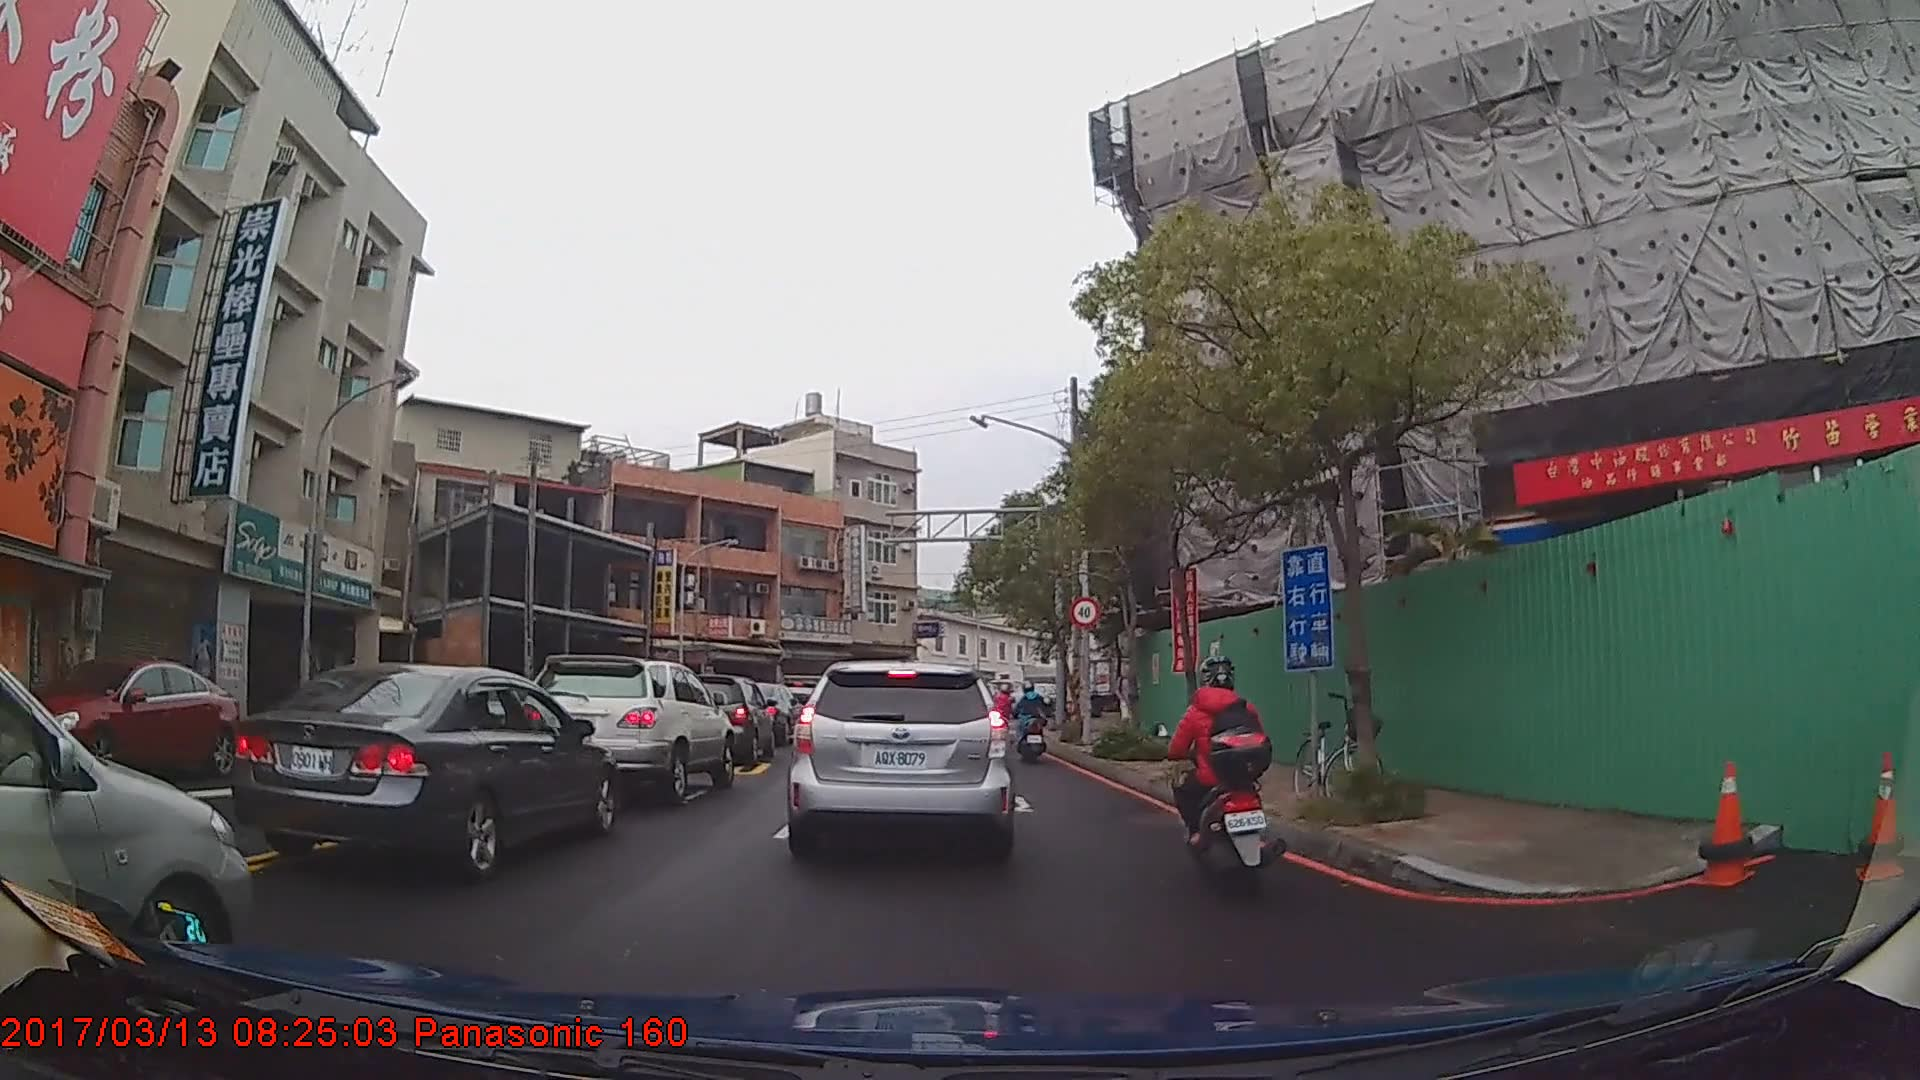pedestrian: (1112, 666, 1140, 741)
rider: (1162, 650, 1284, 889), (1013, 683, 1054, 770), (992, 684, 1017, 741)
vehicle: (230, 661, 614, 876), (0, 664, 254, 985), (783, 659, 1019, 857), (526, 652, 733, 806), (35, 655, 239, 779), (681, 673, 776, 768)
